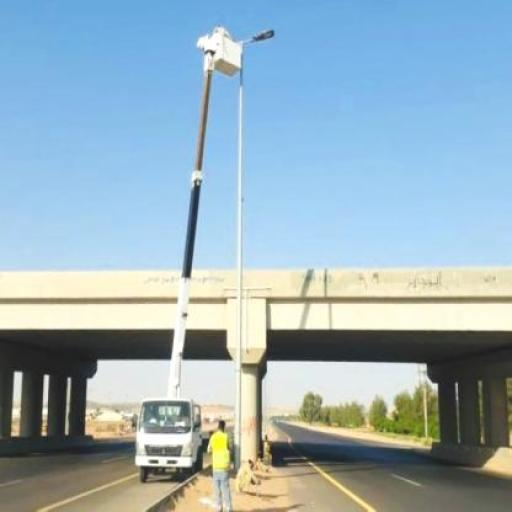street light: (235, 28, 276, 476)
